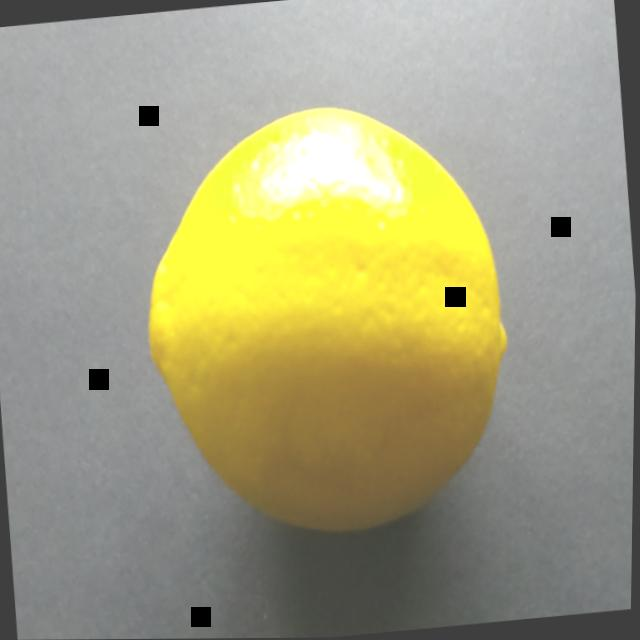Lemon: (112, 69, 547, 587)
